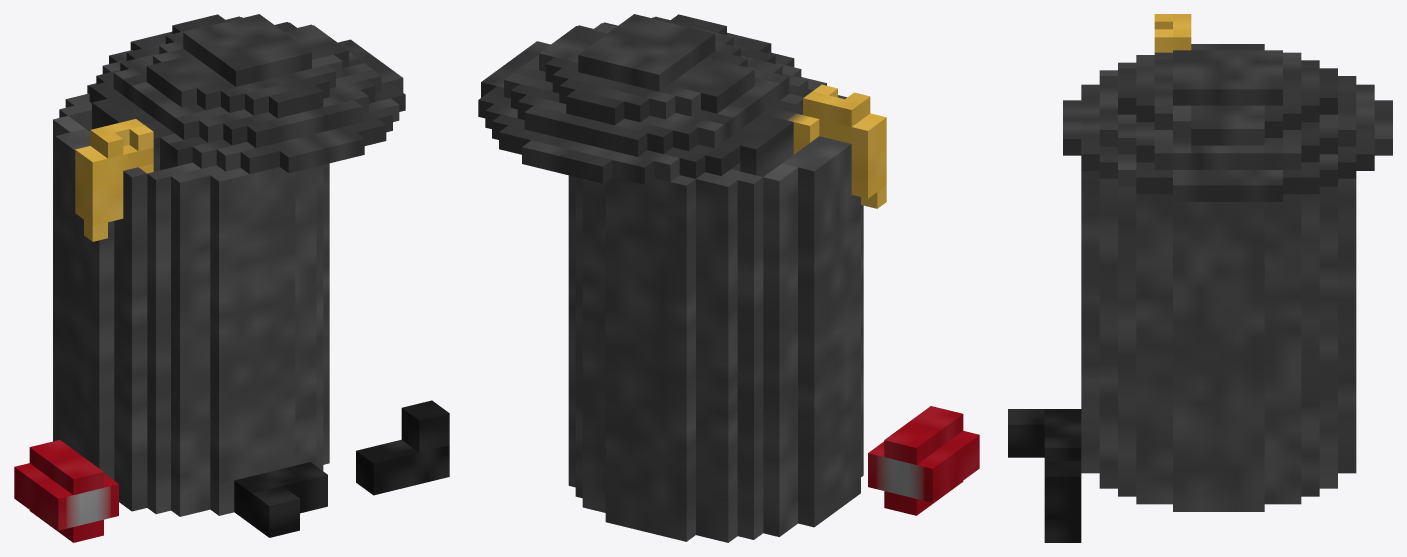
Rendered from garbage_bin.fbx.
3 renders of one model, left to right at view 1: azimuth 30°, elevation 25°; view 2: azimuth 150°, elevation 25°; view 3: azimuth 270°, elevation 25°, orthographic. The views are drawn at different scales.
Visible parts, largest first — view 1: Matrix; view 2: Matrix; view 3: Matrix.
Part boxes in pixels (x1,y1,x2,y2): Matrix: (14,14,449,542); Matrix: (478,14,979,542); Matrix: (1008,14,1392,542).
Bounding box in the file's own units: 25 × 25 × 21.
1 material, 1 textured.
